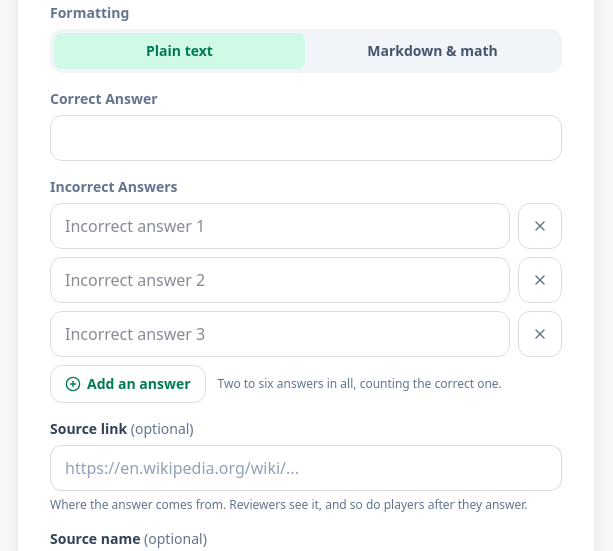
AddQuestionComponent answer rows (FEAT-051) › adds rows up to six options and no further
(page scrolled)
Click the button with test id "add-answer" at [128, 384], box [50,365,206,403]
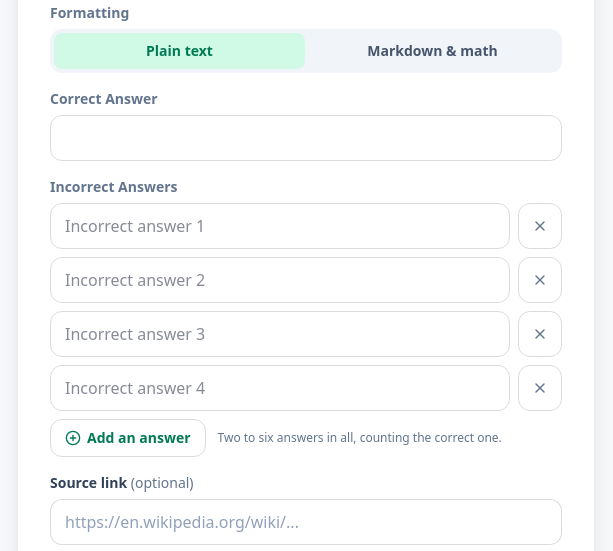
Click the button with test id "add-answer" at [128, 438], box [50,419,206,457]
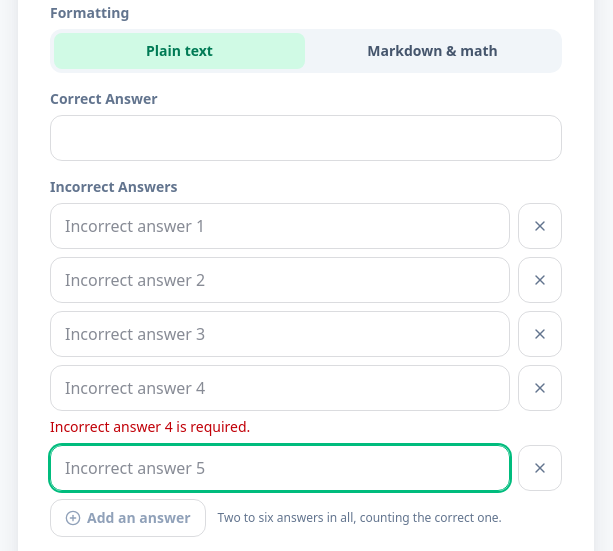
Now the button with test id "add-answer" is disabled, box [50,499,206,537]
